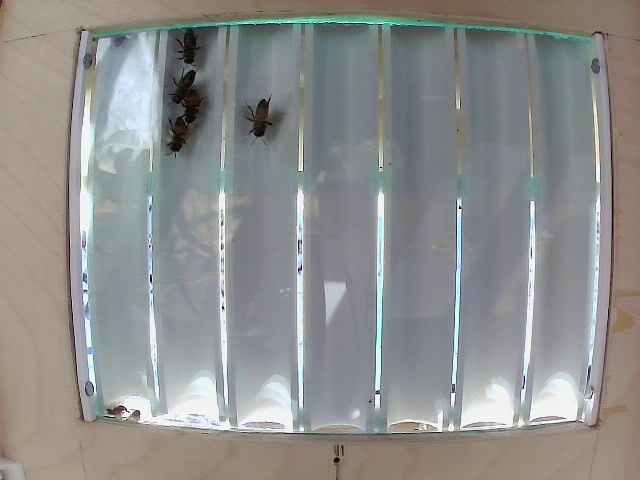bee: (163, 110, 192, 165), (252, 102, 284, 151), (175, 27, 213, 62), (179, 83, 208, 123), (170, 61, 200, 96)
